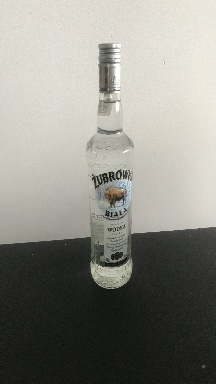butelka: (84, 40, 135, 293)
